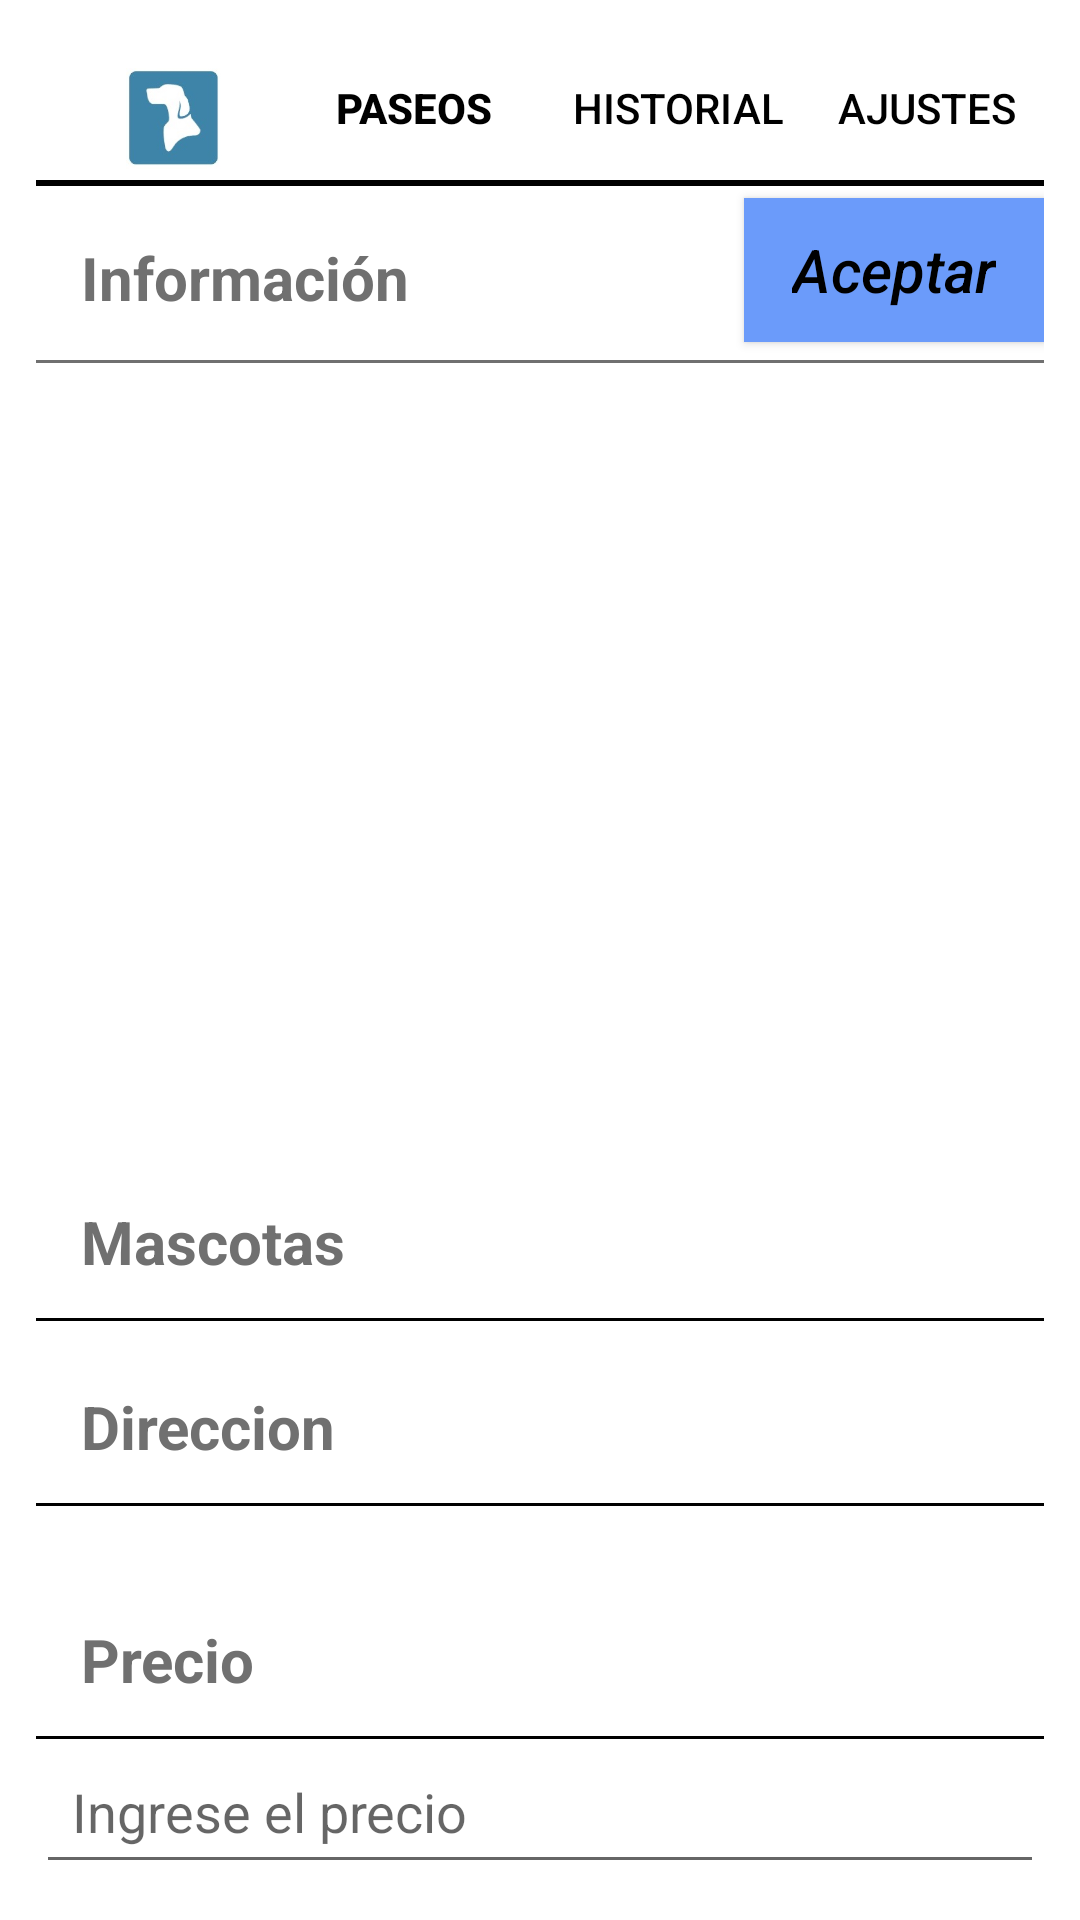

Locate icon controls on the screen. Image size 1080px×1920px, boxes as {"left": x1, "top": y1, "right": x2, "bottom": y2}.
loguito: {"left": 129, "top": 71, "right": 218, "bottom": 165}
